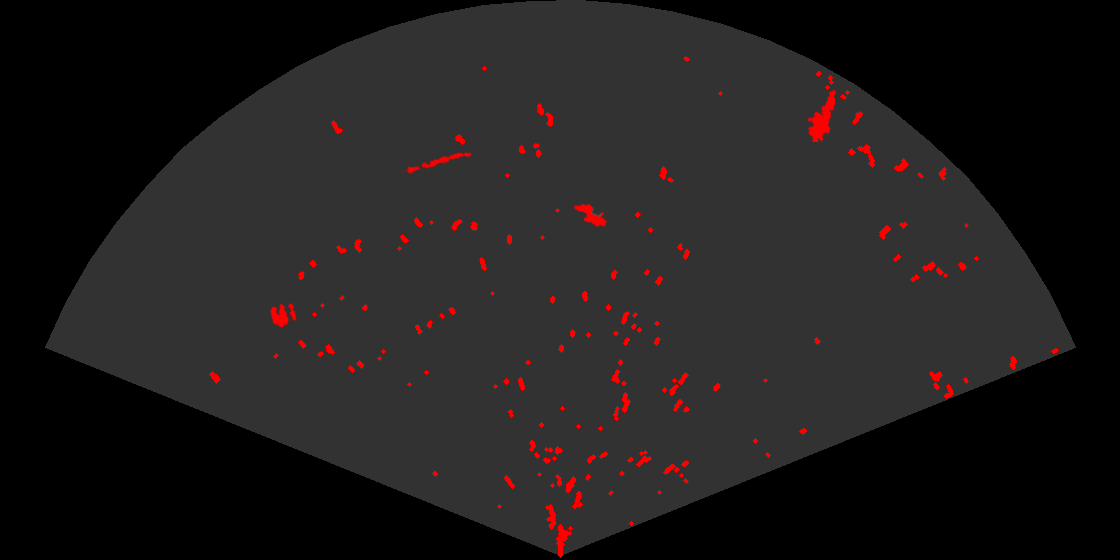AUV: (572, 202, 609, 229)
ball: (269, 301, 298, 329)
chain: (402, 151, 474, 176)
frogman: (805, 88, 837, 142)
